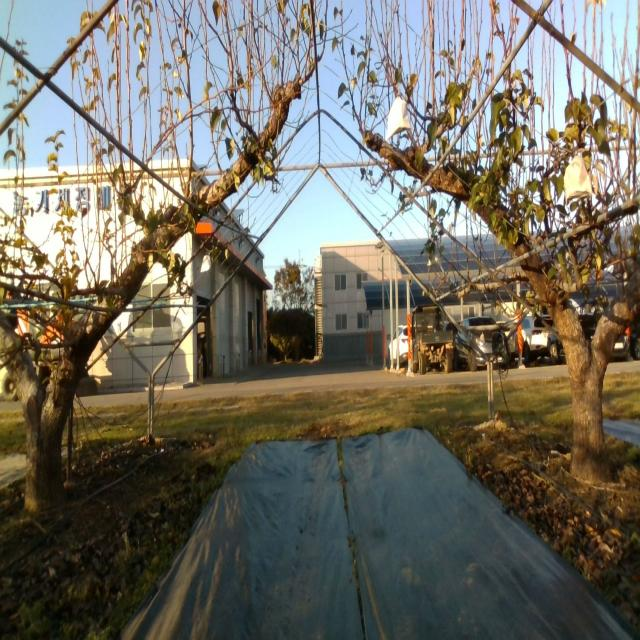pearbags: (562, 155, 593, 205), (385, 88, 411, 144), (427, 247, 441, 268), (200, 253, 211, 273)
